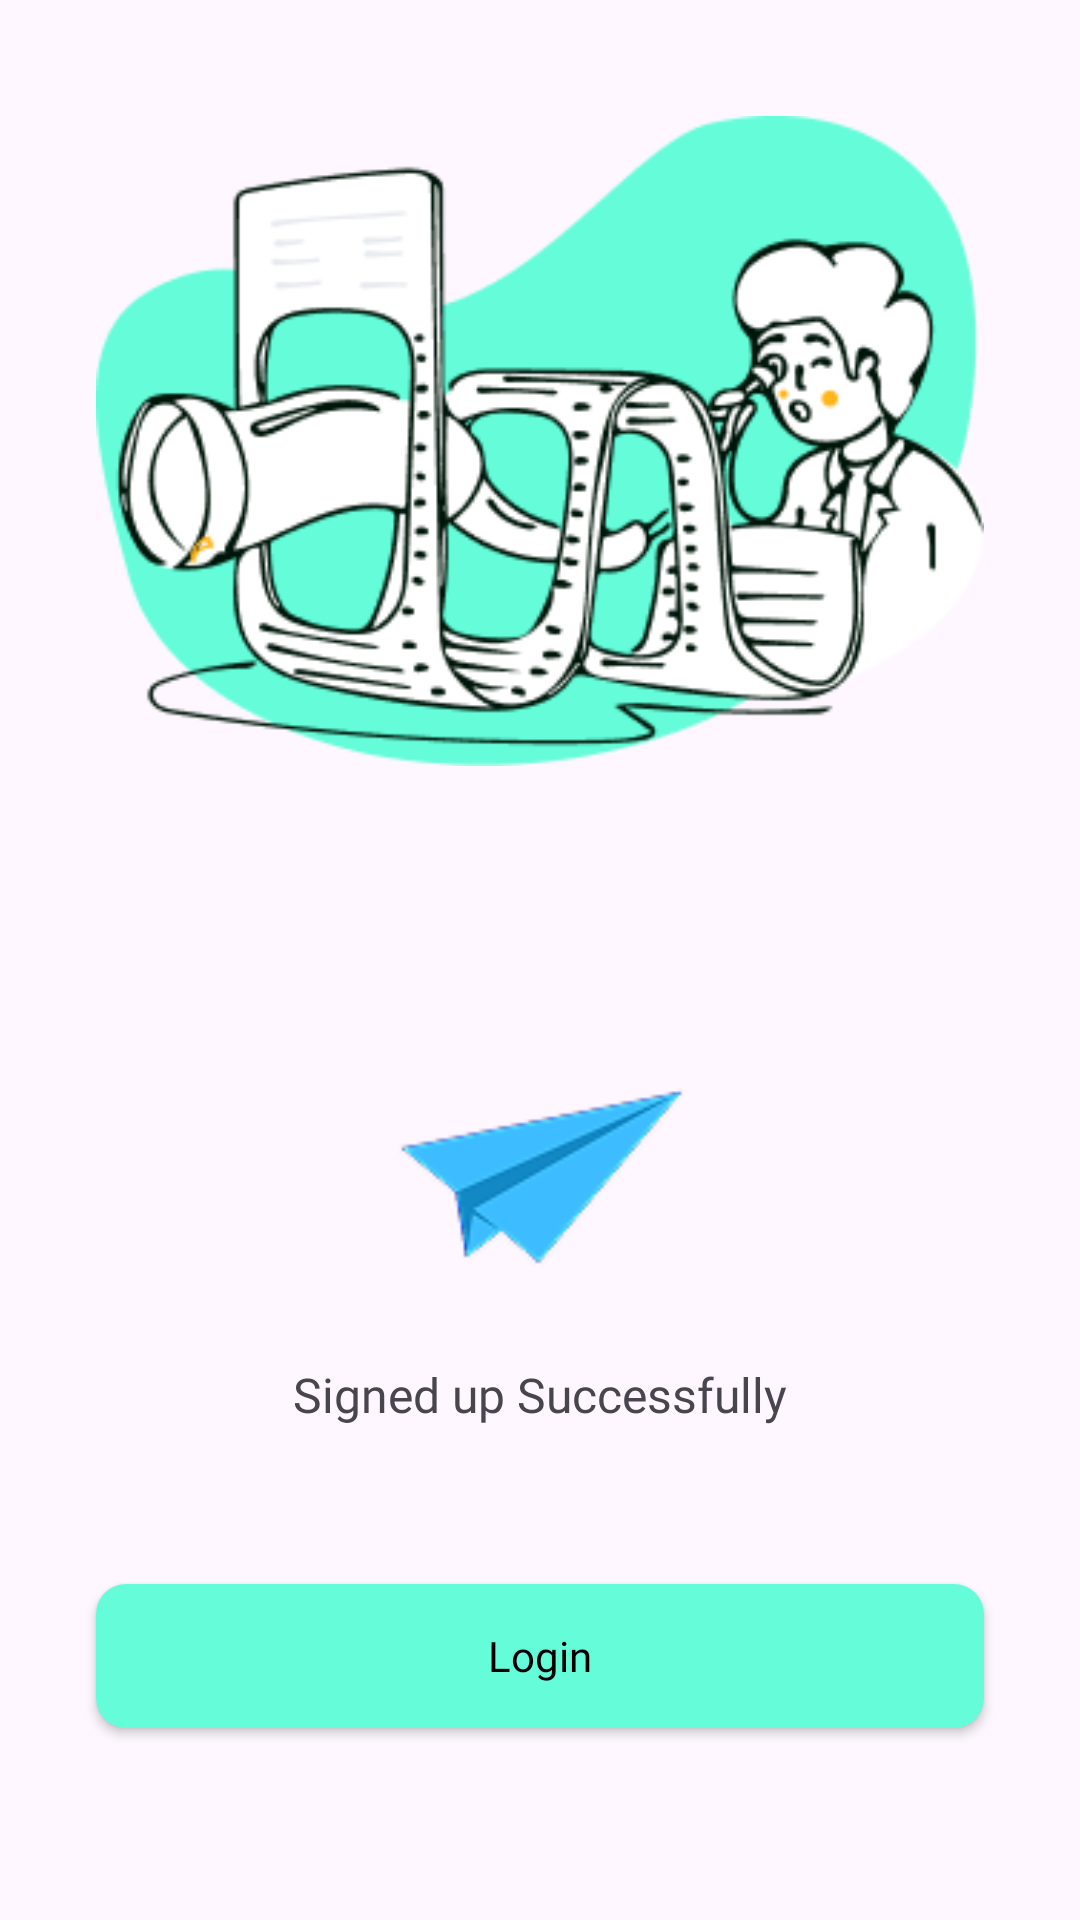

Screen size 1080×1920. Icon name, then its box in pixels as region(x1, y1, x2, y2):
message: region(401, 1091, 682, 1264)
